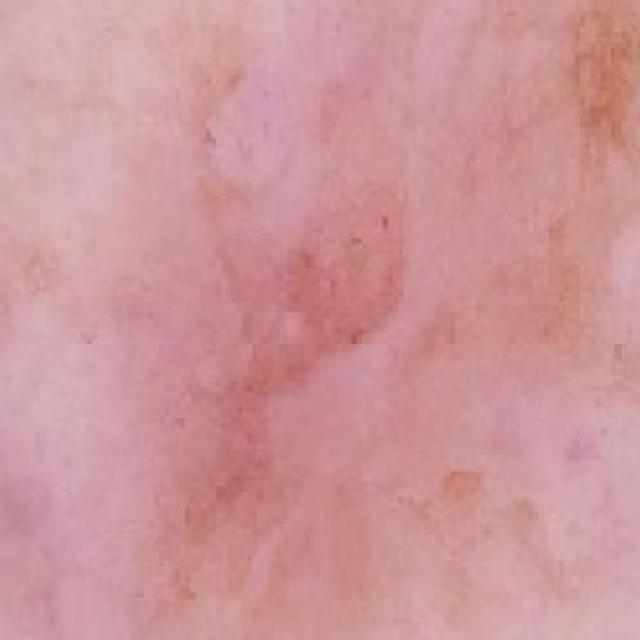DF: (24, 0, 582, 640)
